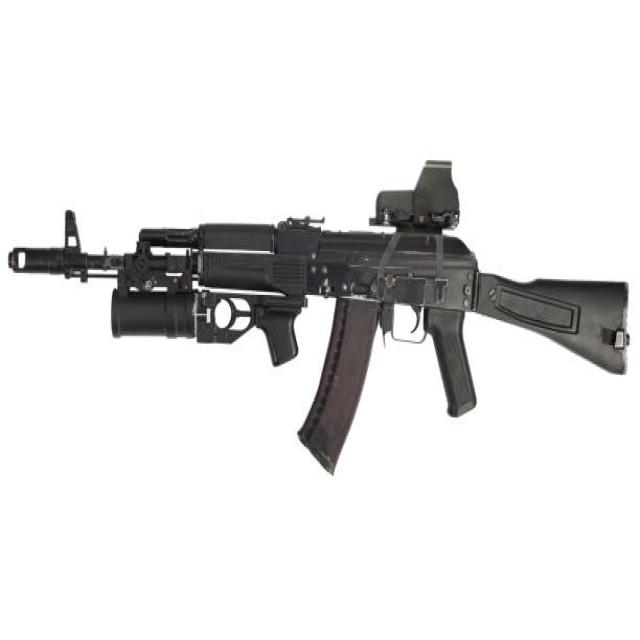rifle: (8, 148, 636, 509)
